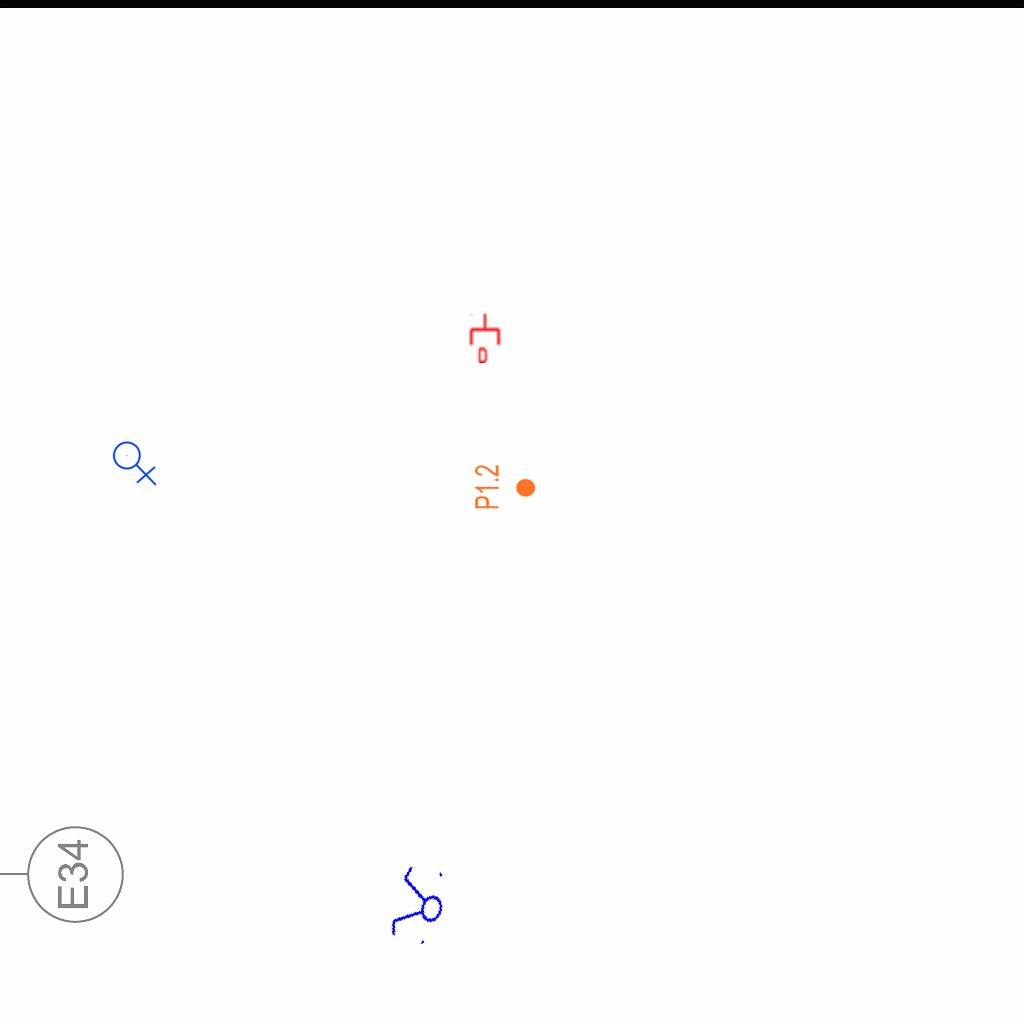Datenanschluss_einfach: (468, 313, 502, 363)
Downlight_LED_Einbauleuchten_Flur: (473, 464, 537, 510)
Elektroanschluss_allgemein_230V_Geraeteanschlussdose_230V: (112, 437, 159, 486)
Serienschalter: (384, 859, 454, 953)
